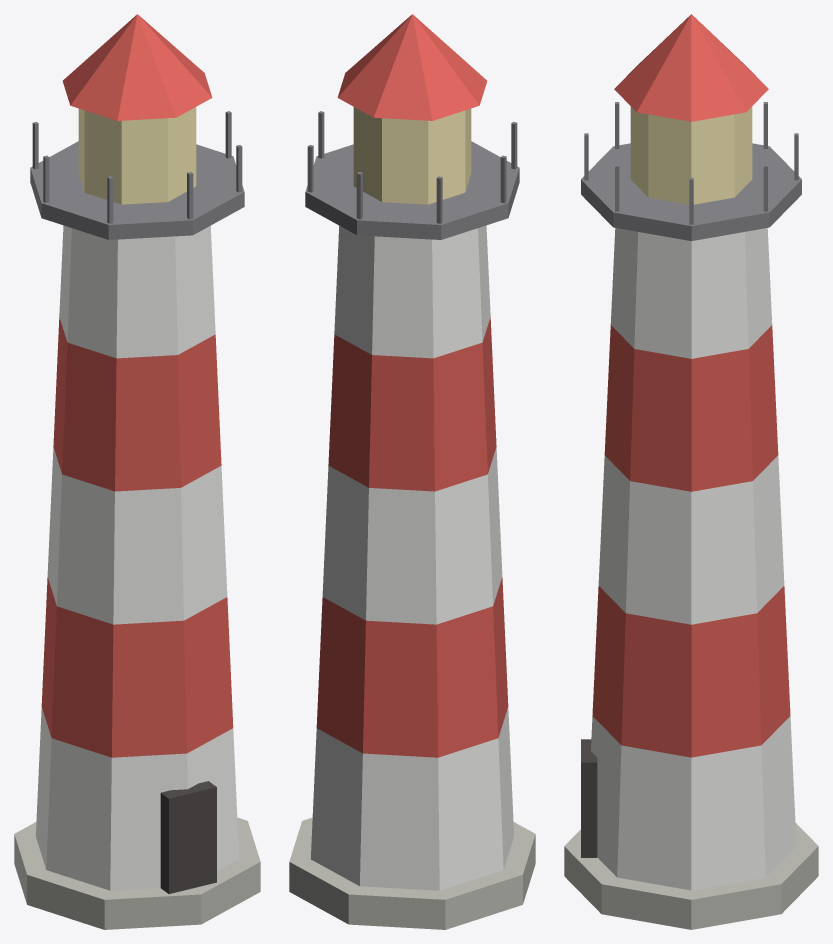
The model's file is IZ_Faro.fbx.
The picture shows the model from 3 angles, left to right: view 1: azimuth 30°, elevation 25°; view 2: azimuth 150°, elevation 25°; view 3: azimuth 270°, elevation 25°; orthographic projection.
Visible parts, largest first — view 1: IZ_Faro; view 2: IZ_Faro; view 3: IZ_Faro.
Part boxes in pixels (box(x1,y1,x2,y2)): IZ_Faro: box(14, 14, 260, 929); IZ_Faro: box(289, 14, 535, 929); IZ_Faro: box(564, 14, 818, 929).
Size of the model in its own units: 4.6 by 17.2 by 4.6.
